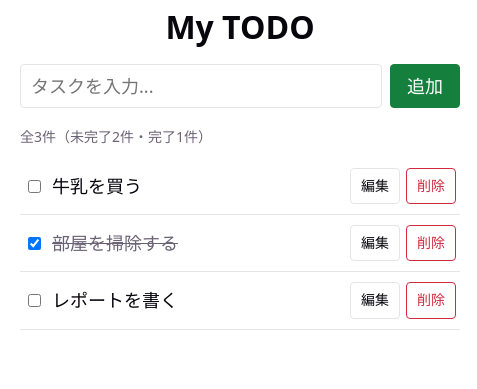
Test: App › 追加に失敗すると対応するエラーメッセージが表示される
The image size is (477, 389).
Type "散歩する" into the field labelled "タスクを入力" at (201, 86), box [20, 64, 382, 108]
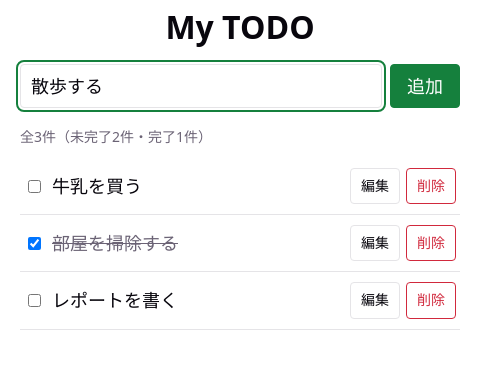
Click the button "追加" at (425, 86), box [390, 64, 460, 108]
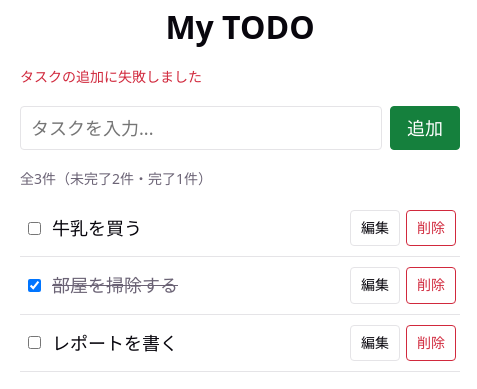
Result: the text "タスクの追加に失敗しました" is shown at [20, 67, 202, 86]
